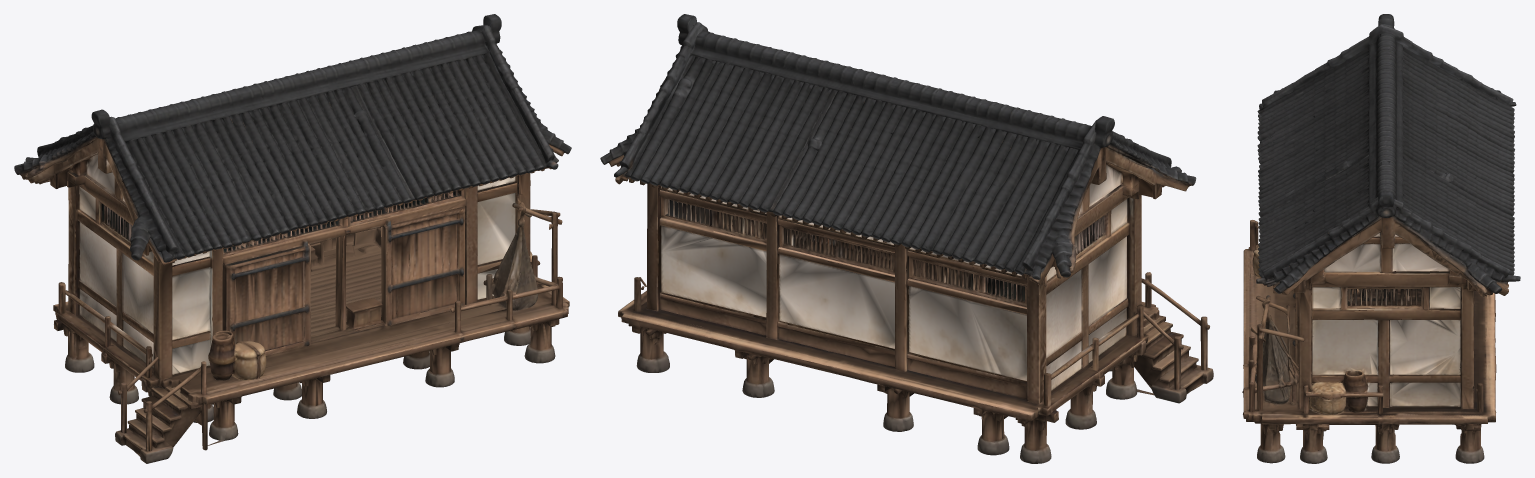
Rendered from 14_Riverside_Storehouse.fbx.
3 renders of one model, left to right at view 1: azimuth 30°, elevation 25°; view 2: azimuth 150°, elevation 25°; view 3: azimuth 270°, elevation 25°, orthographic. The views are drawn at different scales.
Visible parts, largest first — view 1: 14_Riverside_Storehouse; view 2: 14_Riverside_Storehouse; view 3: 14_Riverside_Storehouse.
Part boxes in pixels (left/top/right/bottom): 14_Riverside_Storehouse: left=14, top=14, right=571, bottom=463; 14_Riverside_Storehouse: left=600, top=14, right=1213, bottom=463; 14_Riverside_Storehouse: left=1242, top=14, right=1520, bottom=463.
Bounding box in the file's own units: 11.07 × 7 × 6.51.
